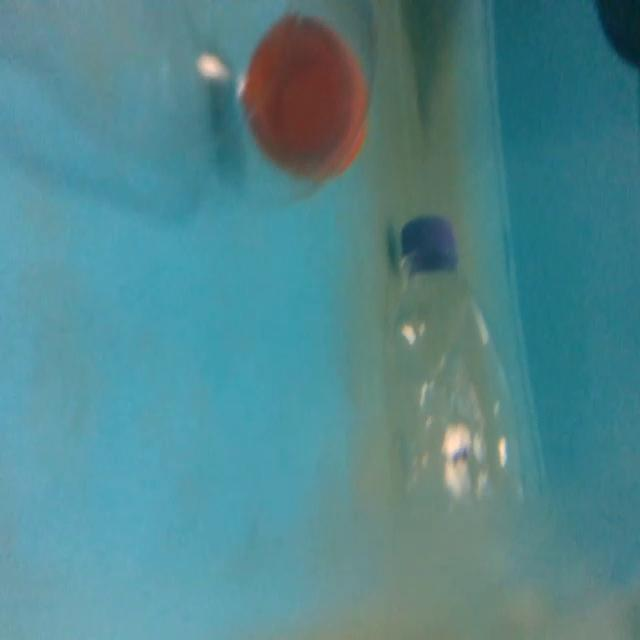plastic bottle: (390, 210, 533, 538)
